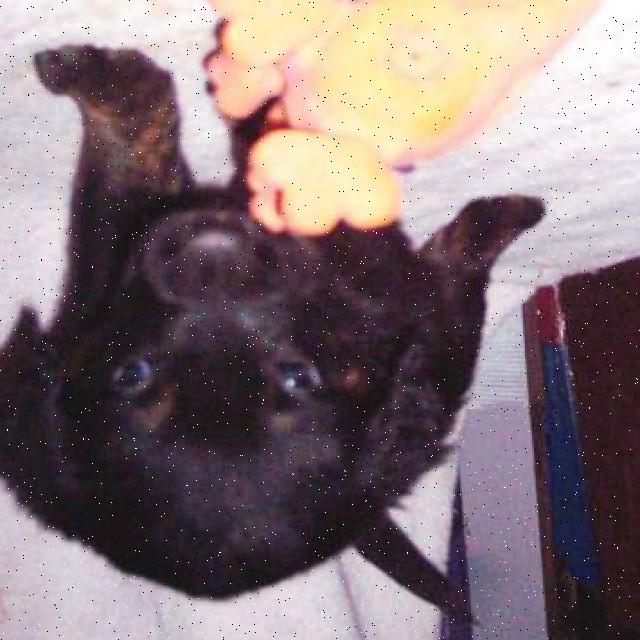Dog: (0, 170, 475, 603)
